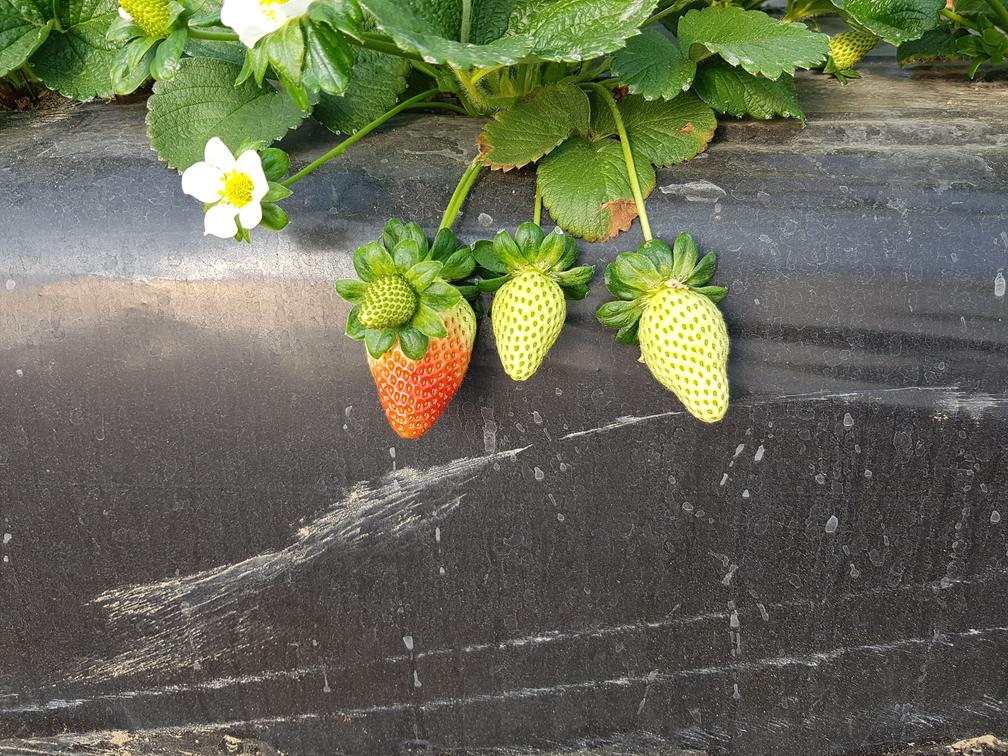Ripe: (365, 334, 477, 442)
Unripe: (632, 285, 735, 426), (492, 267, 576, 391), (351, 275, 417, 334)
